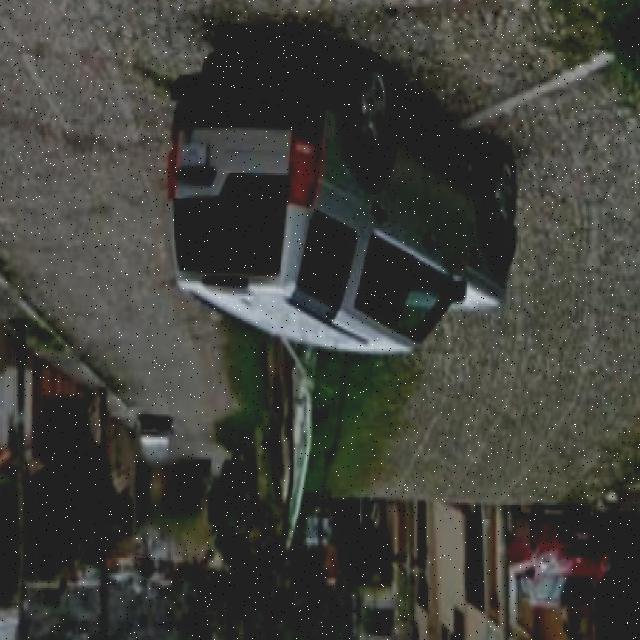car: (172, 48, 518, 349), (507, 506, 621, 614), (136, 421, 176, 467)
